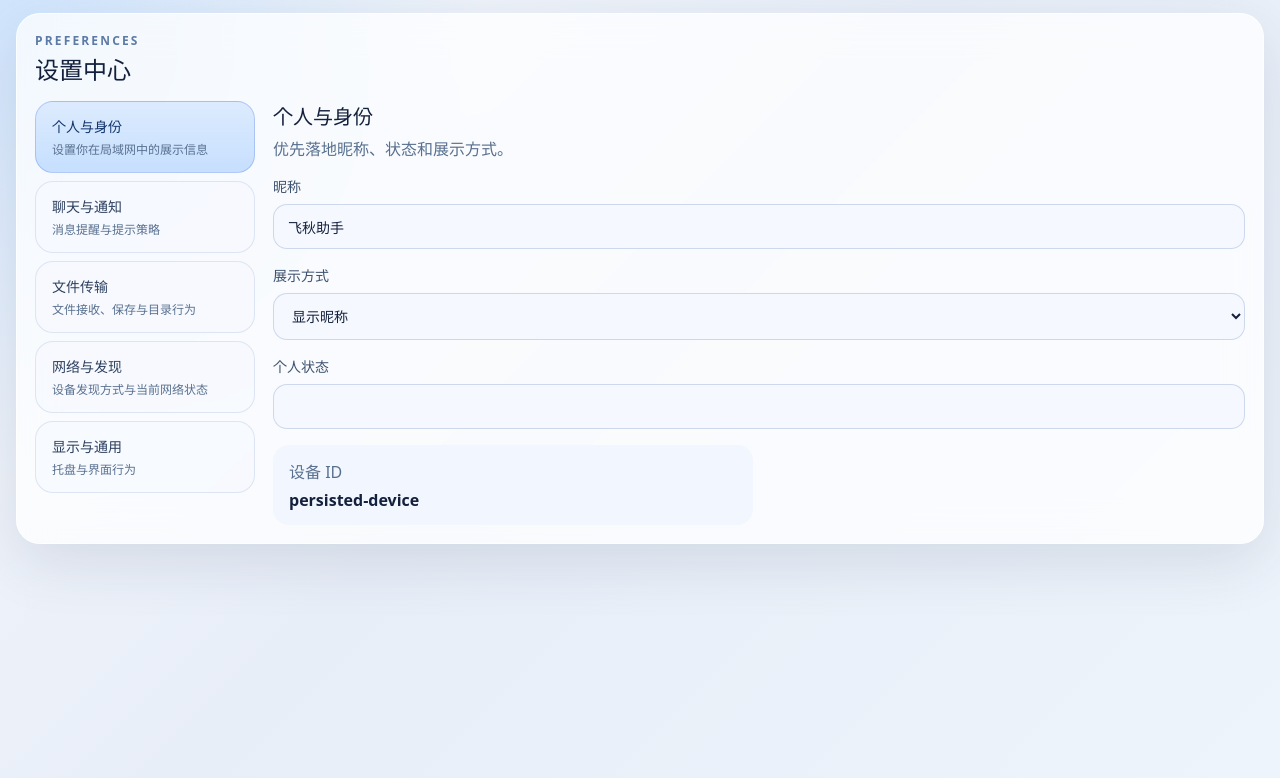
it: clears persisted discovery refresh history from settings view
Click the button "网络与发现 设备发现方式与当前网络状态": (145, 377) [35,341,255,413]
(page scrolled)
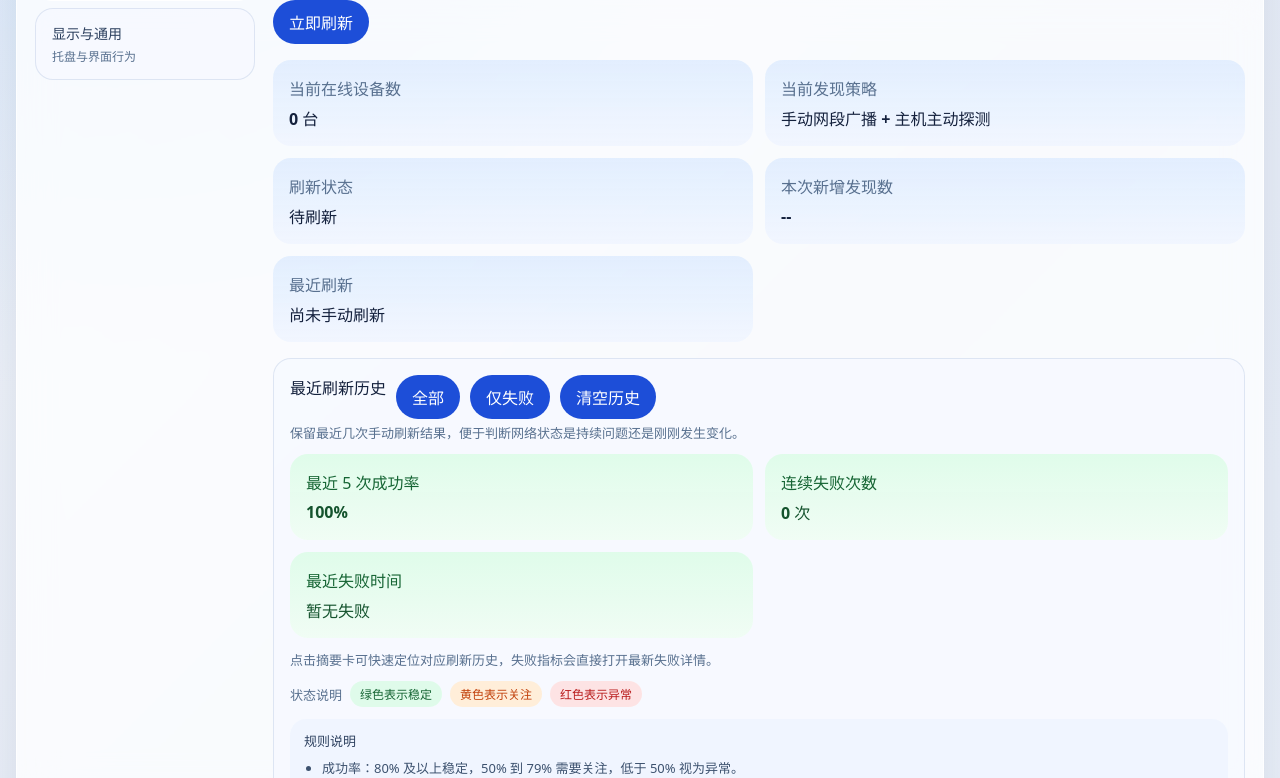
expect the heading "最近刷新历史" is shown: met, box [290,377,386,399]
expect the button "清空历史" is shown: met
Click the button "清空历史": (608, 397) [560,375,656,419]
(page scrolled)
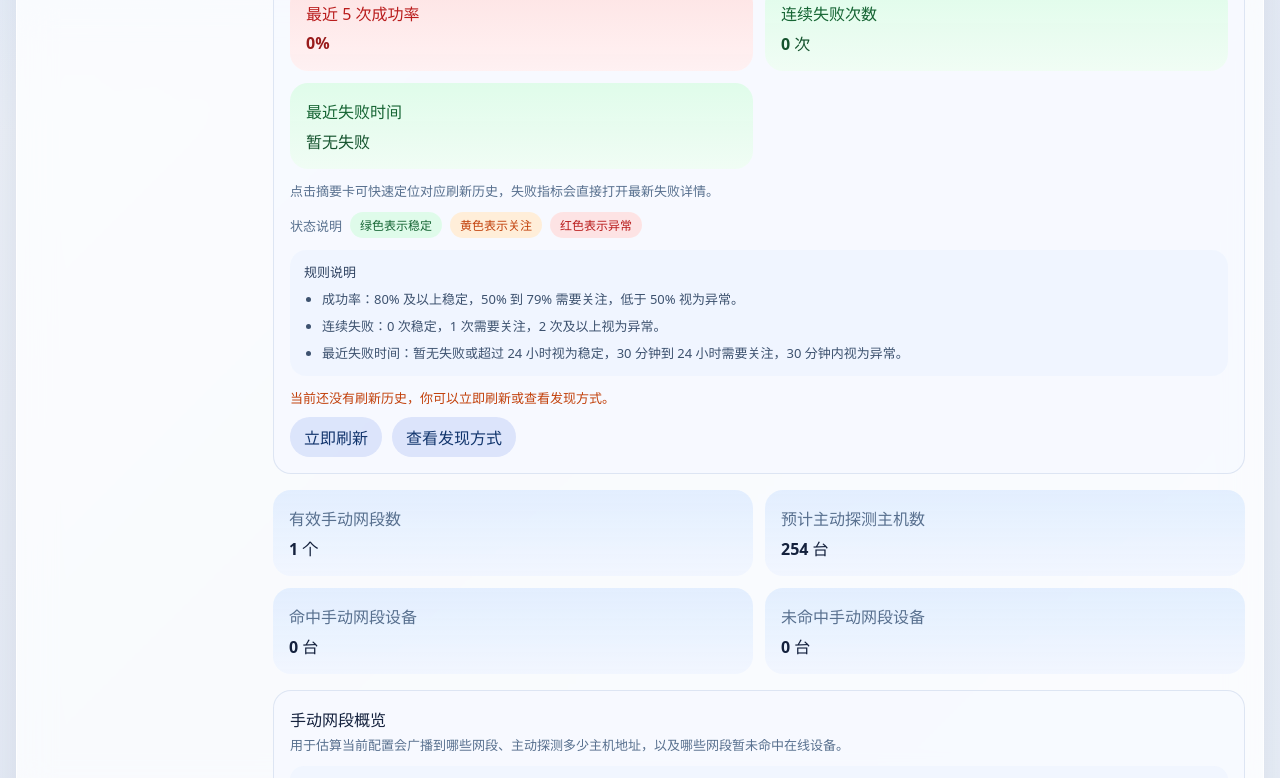
expect the text "当前还没有刷新历史，你可以立即刷新或查看发现方式。" is shown: met, box [290,389,615,407]
